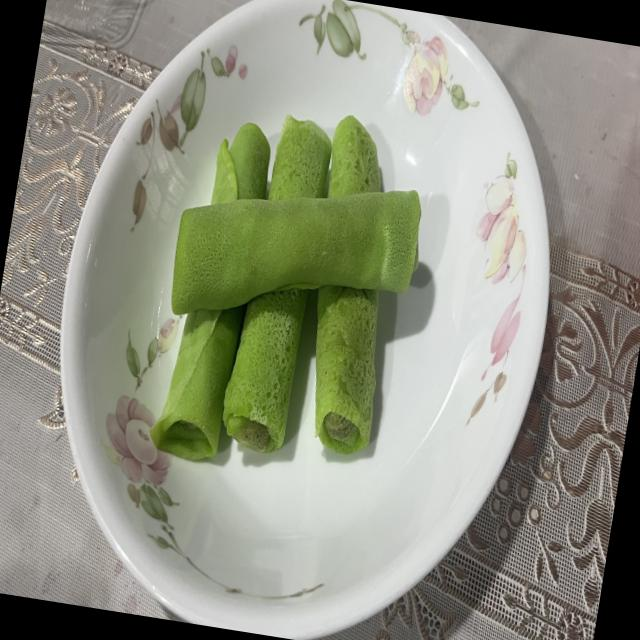Kuih-Ketayap: (171, 190, 421, 314), (151, 305, 244, 460), (223, 288, 307, 453), (315, 285, 378, 455), (268, 117, 332, 202), (211, 122, 270, 205), (328, 115, 381, 199)
